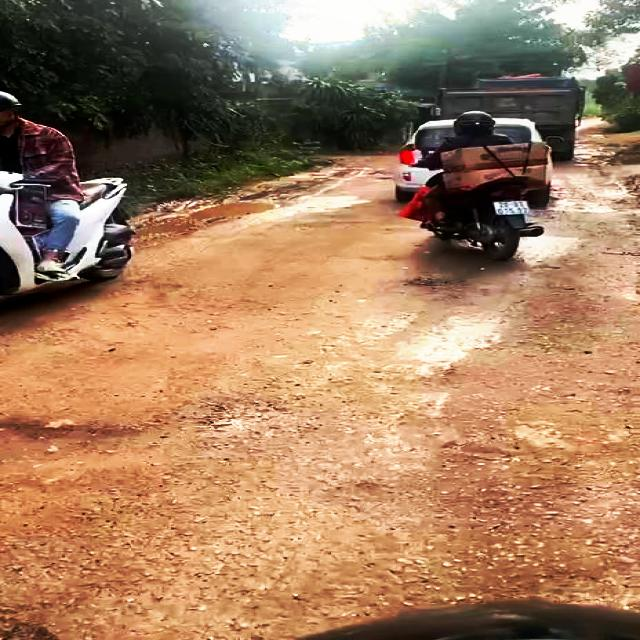pothole: (0, 396, 286, 489)
